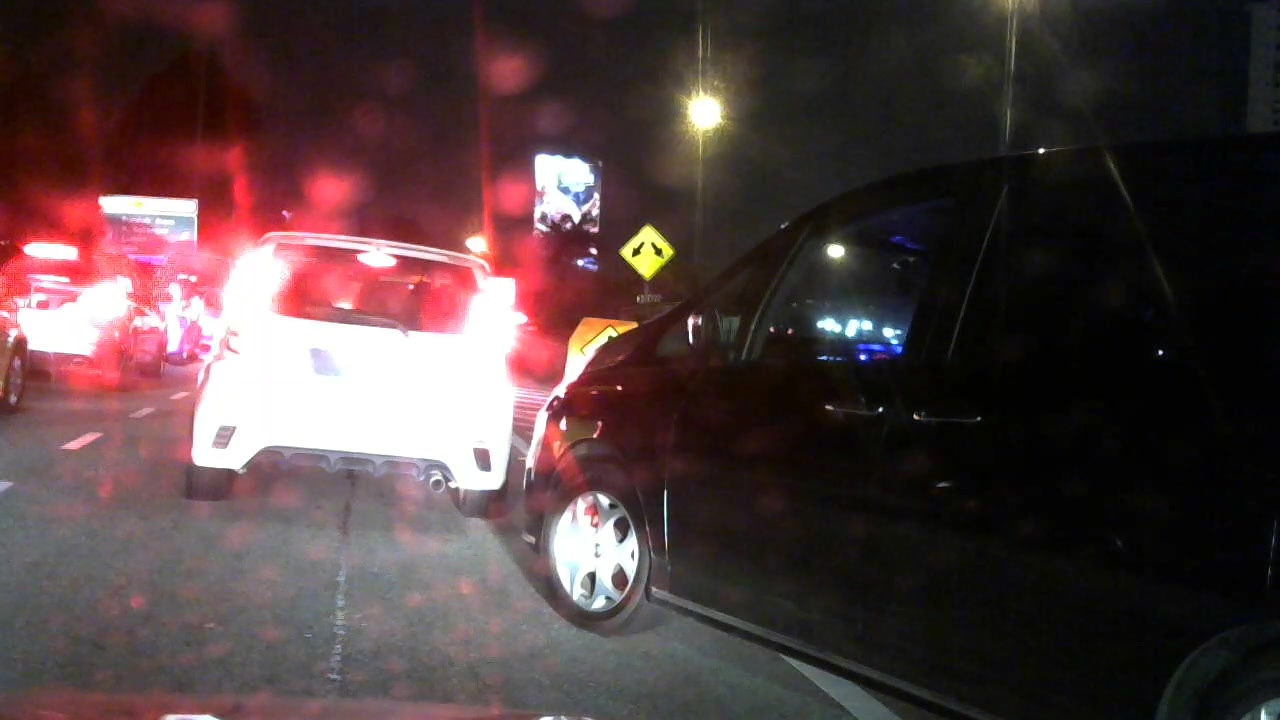Car: (517, 117, 1257, 712), (163, 228, 524, 520), (11, 234, 168, 379), (143, 265, 204, 363), (1, 299, 47, 408)
